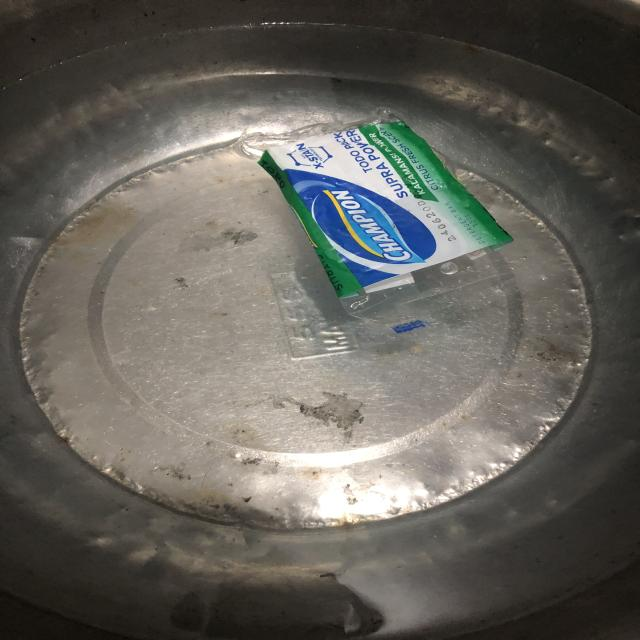Plastic Wrapper: (269, 121, 516, 340)
